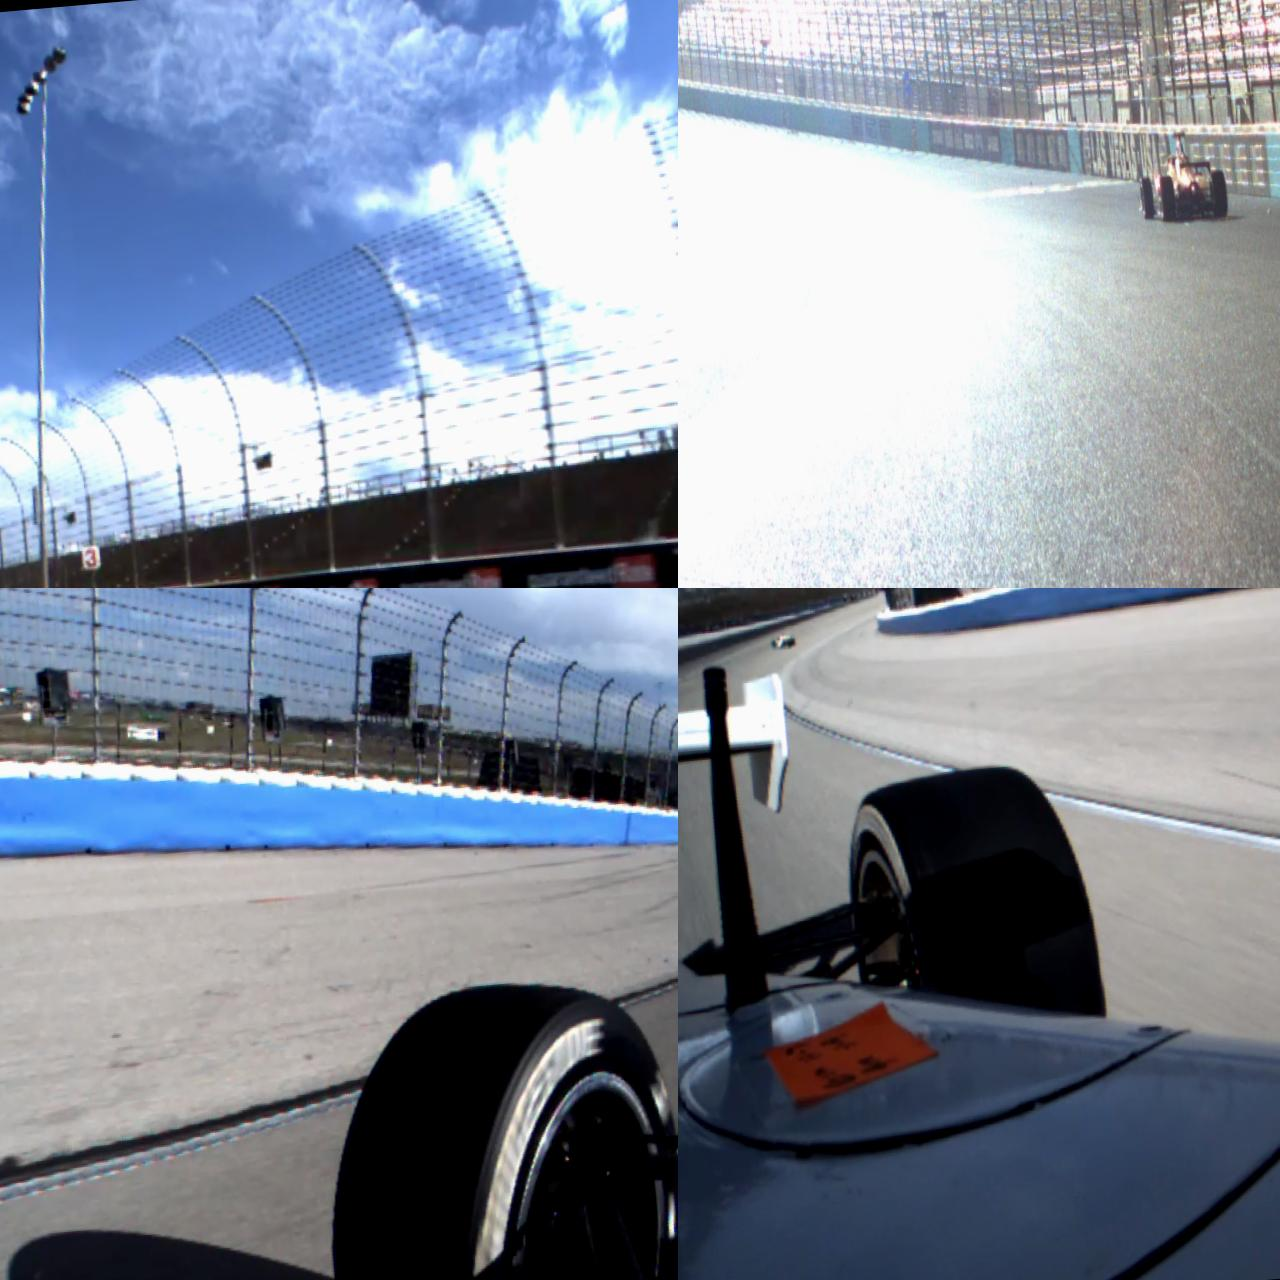AV: (1132, 127, 1230, 225), (771, 633, 797, 649)
Wheel: (309, 967, 678, 1280), (840, 760, 1108, 1039), (1157, 176, 1176, 223), (1211, 169, 1228, 218), (1139, 177, 1155, 219)
